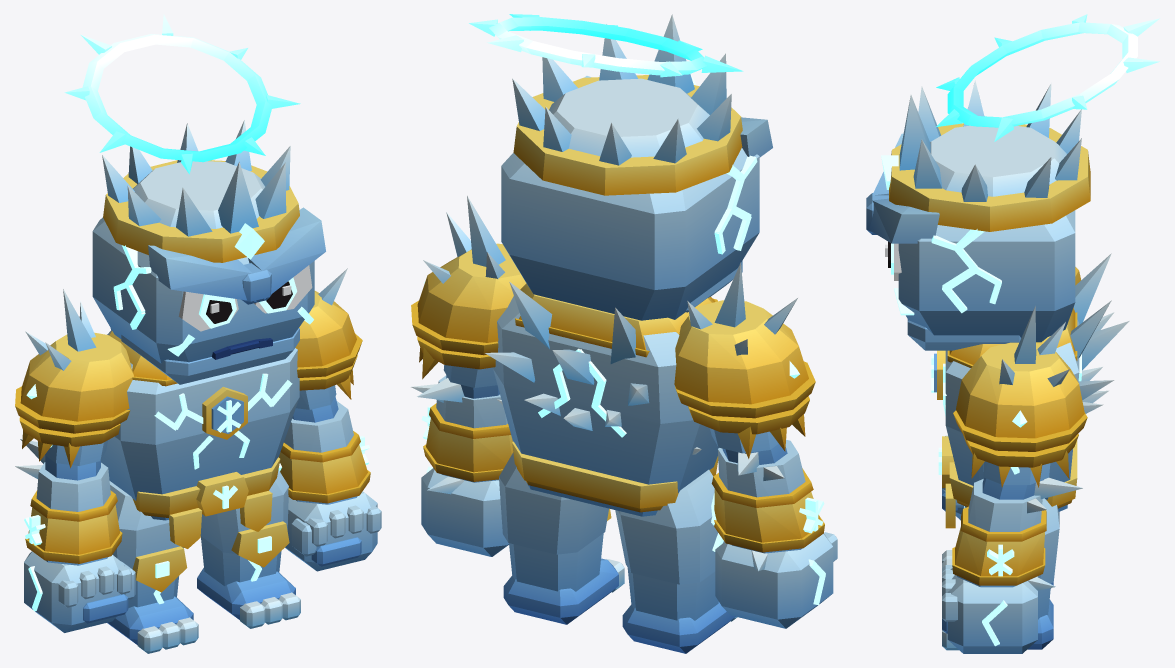
File: GlacierTitan.glb
3 renders of one model, left to right at view 1: azimuth 30°, elevation 25°; view 2: azimuth 150°, elevation 25°; view 3: azimuth 270°, elevation 25°, orthographic. The views are drawn at different scales.
Parts seen in each view (by area): view 1: GlacierTitan; view 2: GlacierTitan; view 3: GlacierTitan.
Boxes of the visible parts, <box> form: GlacierTitan: <box>15,14,381,653</box>; GlacierTitan: <box>411,14,837,653</box>; GlacierTitan: <box>866,14,1160,653</box>.
Bounding box in the file's own units: 0.8753 × 1.35 × 0.6299.
1 material, 1 textured.
